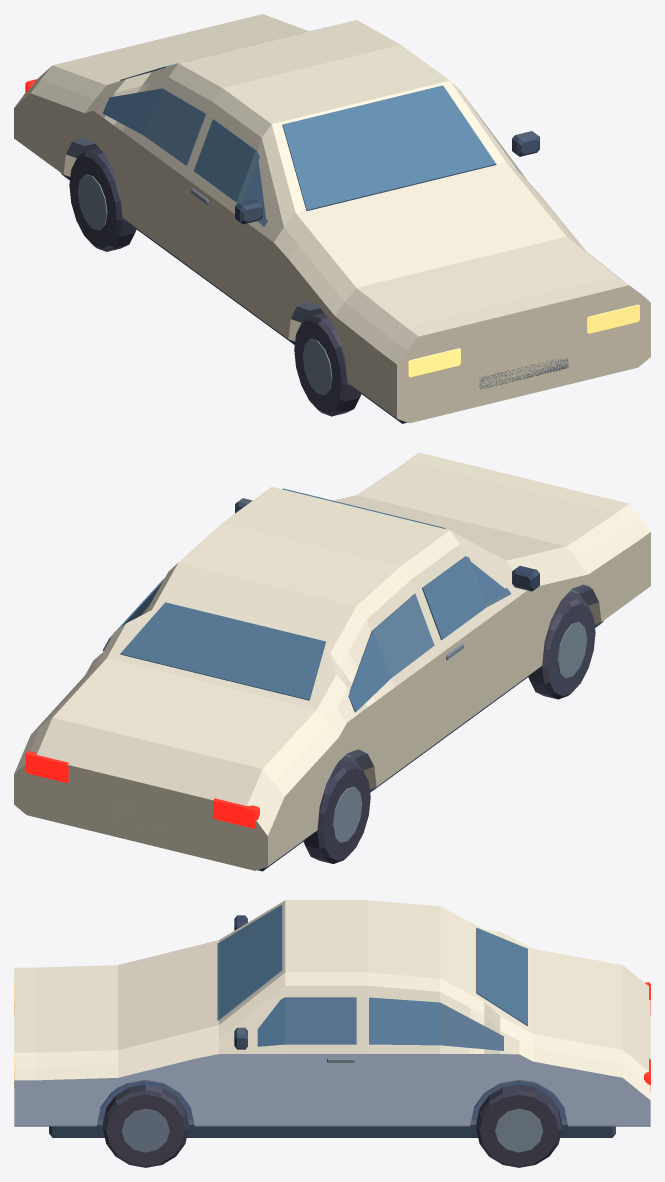
Rendered from WEB_Sedan.glb.
The picture shows the model from 3 angles, top to bottom: view 1: azimuth 30°, elevation 25°; view 2: azimuth 150°, elevation 25°; view 3: azimuth 270°, elevation 25°; orthographic projection. The views are drawn at different scales.
Parts seen in each view (by area): view 1: WEB_Sedan; view 2: WEB_Sedan; view 3: WEB_Sedan.
Part boxes in pixels (box(x1,y1,x2,y2)): WEB_Sedan: box(14, 14, 650, 423); WEB_Sedan: box(14, 452, 650, 871); WEB_Sedan: box(14, 900, 650, 1167).
Size of the model in its own units: 2.08 by 1.45 by 4.61.
